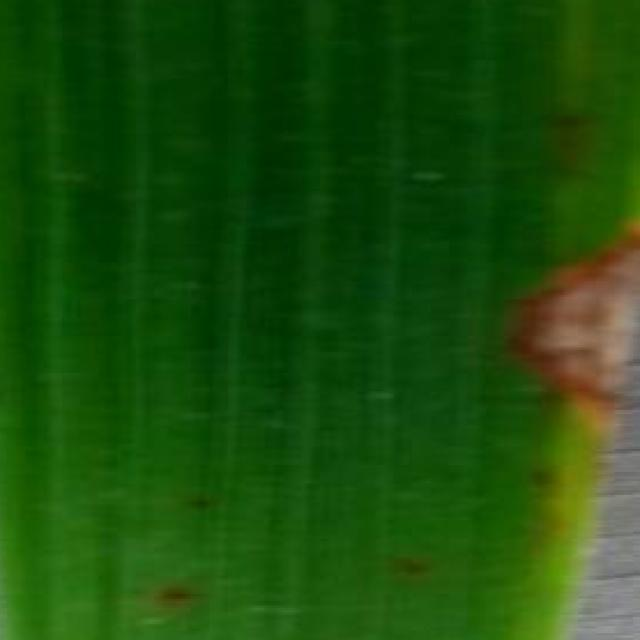Leaf_Blast: (465, 200, 640, 452)
